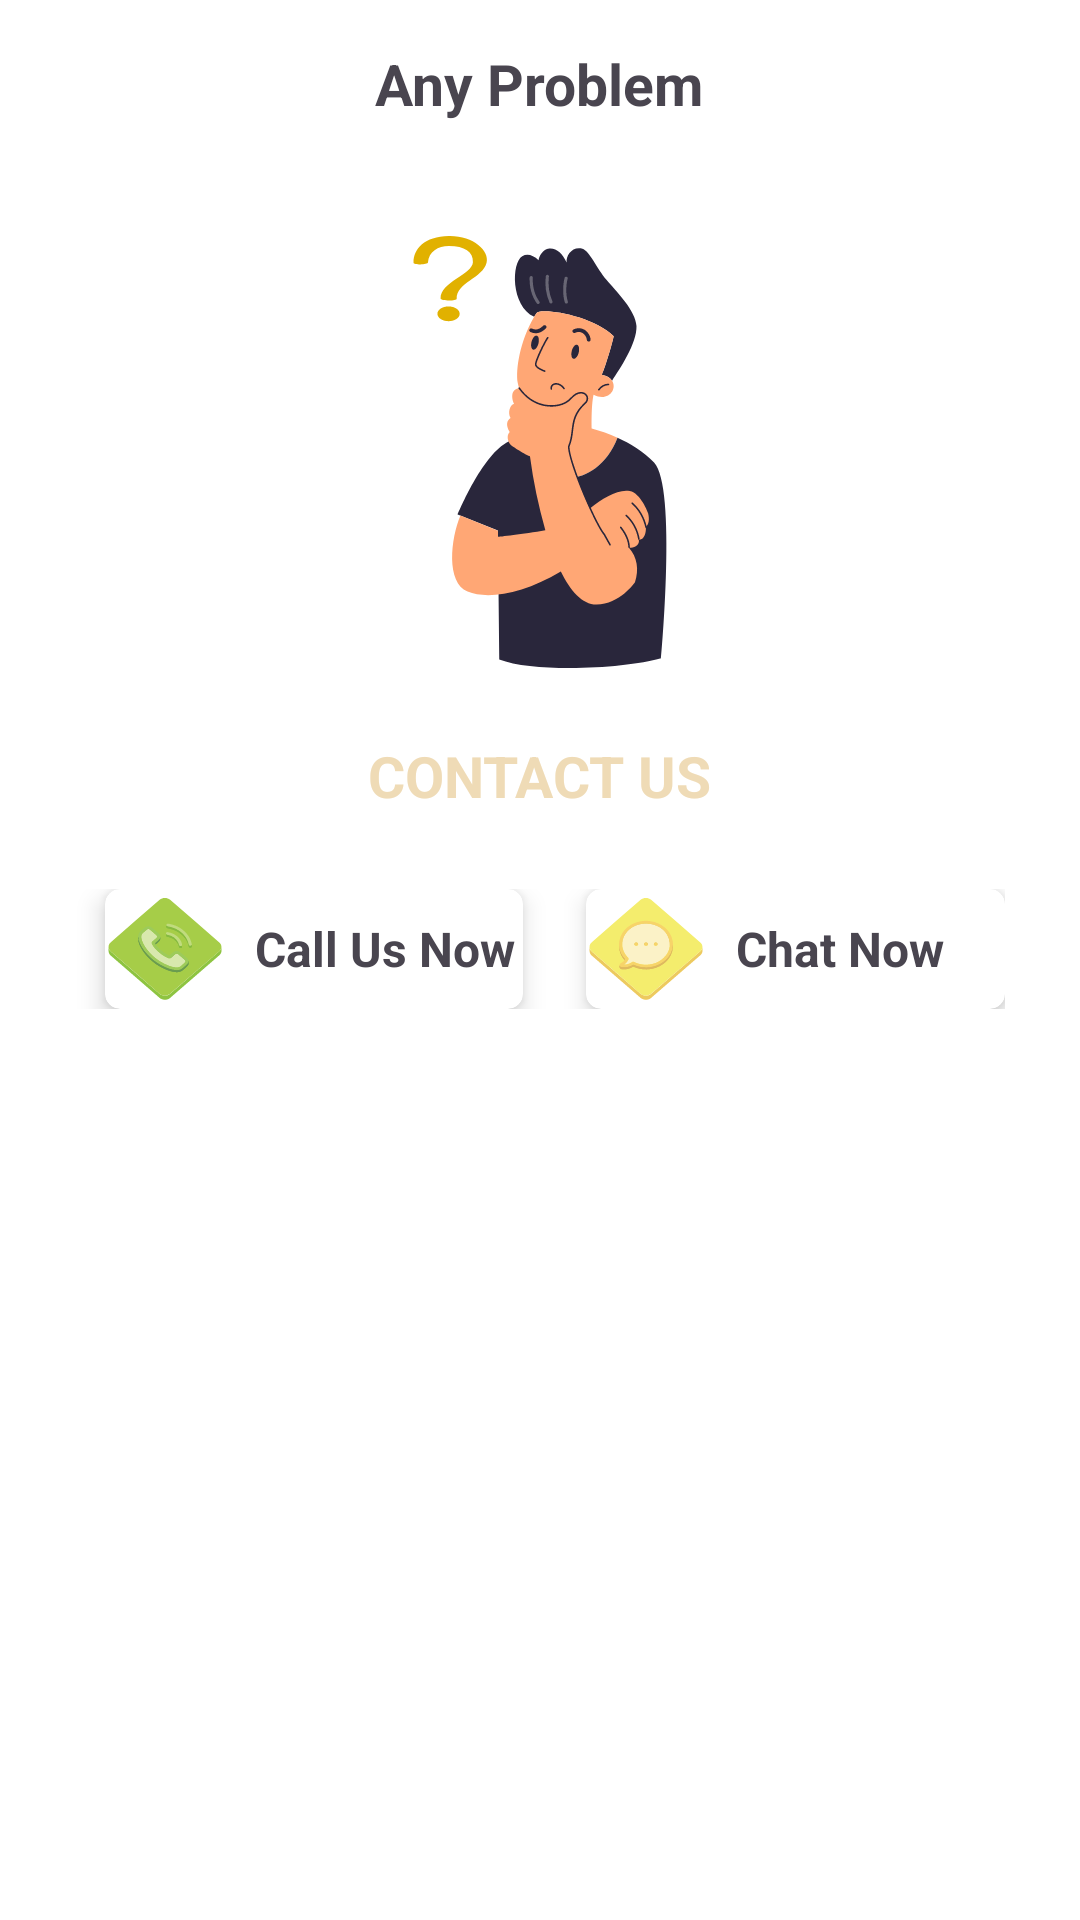

Named icons in this screenshot (1080x1920) and their bounding boxes, (x1=x1, y1=y1, x2=x2, y2=y2):
phone: (x1=105, y1=898, x2=222, y2=1009)
